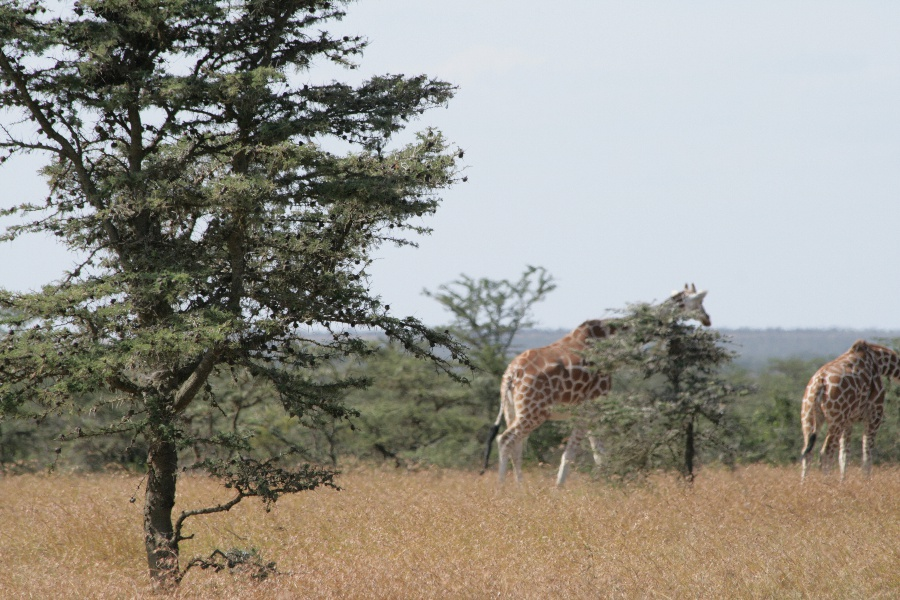giraffe: (496, 279, 727, 492), (788, 339, 898, 493)
